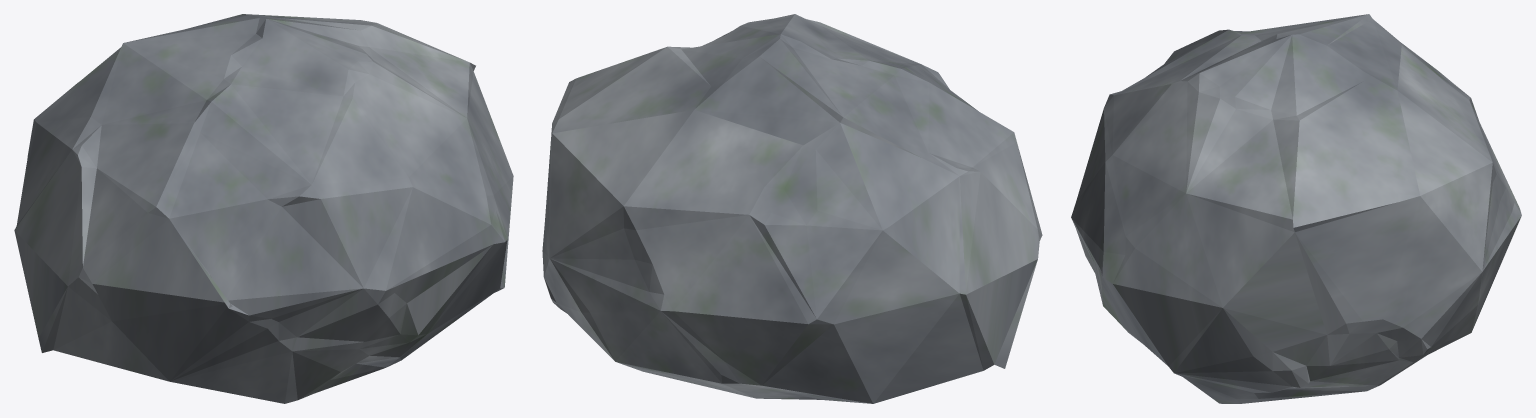
The model's file is Rock_01_Boulder.fbx.
The picture shows the model from 3 angles, left to right: view 1: azimuth 30°, elevation 25°; view 2: azimuth 150°, elevation 25°; view 3: azimuth 270°, elevation 25°; orthographic projection. The views are drawn at different scales.
Visible parts, largest first — view 1: Rock_01_Boulder; view 2: Rock_01_Boulder; view 3: Rock_01_Boulder.
Part boxes in pixels (x1,y1,x2,y2): Rock_01_Boulder: (14, 14, 513, 403); Rock_01_Boulder: (542, 14, 1042, 403); Rock_01_Boulder: (1071, 14, 1521, 403).
Bounding box in the file's own units: 2.39 × 1.8 × 2.22.
1 material, 1 textured.
